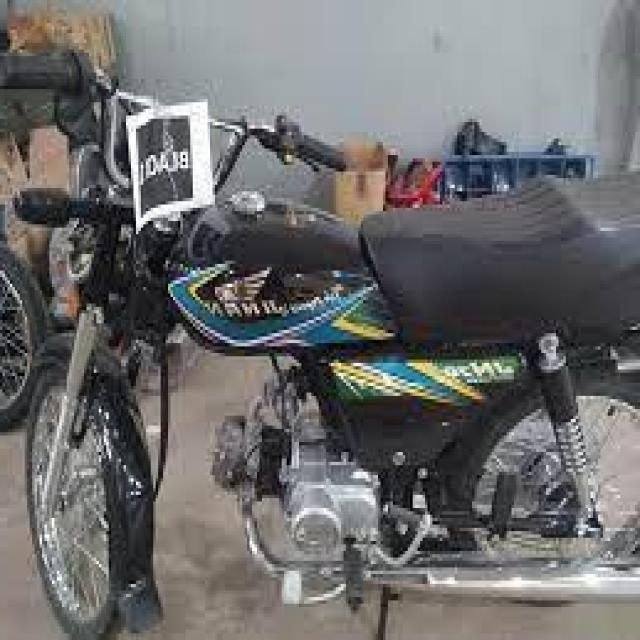motorcycle: (2, 39, 638, 633)
